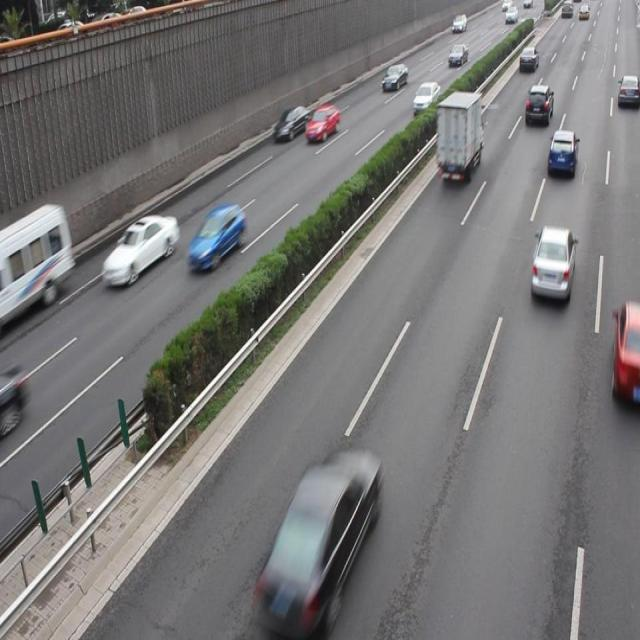bus: (435, 91, 482, 177)
car: (256, 448, 381, 640), (102, 213, 180, 286), (187, 205, 247, 270), (528, 223, 574, 302), (610, 299, 640, 399), (1, 364, 27, 441), (545, 127, 577, 181), (272, 105, 309, 143), (304, 102, 339, 140), (523, 84, 552, 125), (412, 81, 440, 115)
truck: (1, 205, 73, 324)
